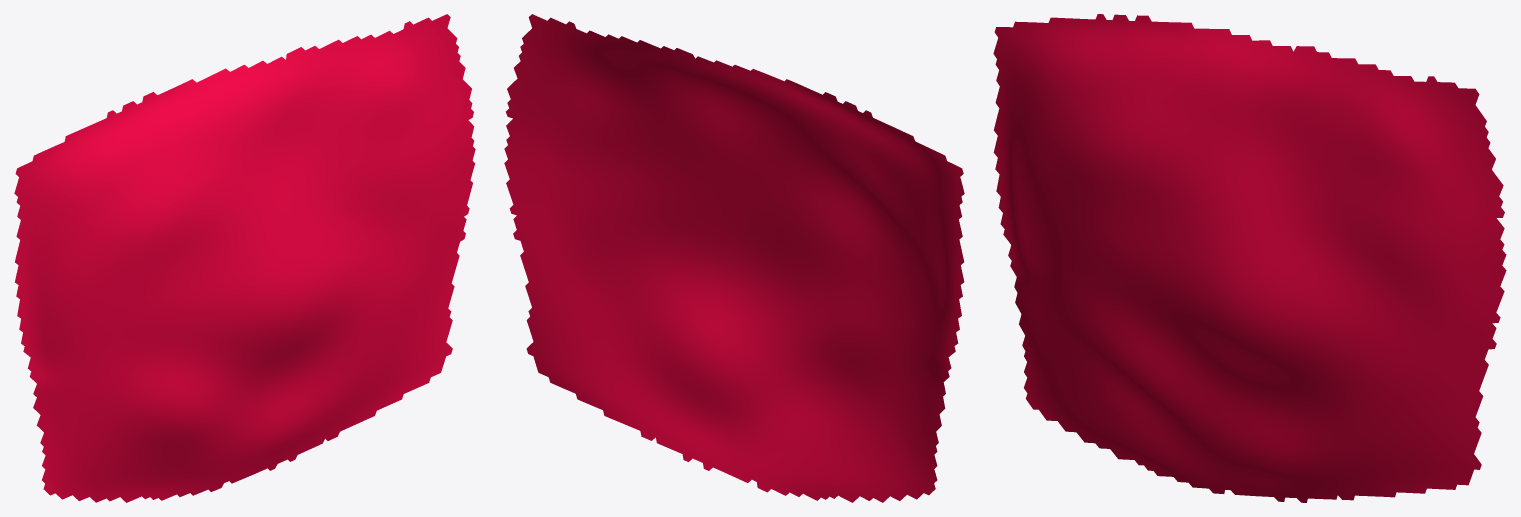
File: SM_GPUI_seederground_110.fbx
3 views of the same model, side by side, from view 1: azimuth 30°, elevation 25°; view 2: azimuth 150°, elevation 25°; view 3: azimuth 330°, elevation 25° (orthographic). The views are drawn at different scales.
Visible parts, largest first — view 1: SM_GPUI_seederground_110; view 2: SM_GPUI_seederground_110; view 3: SM_GPUI_seederground_110.
Part boxes in pixels (x1,y1,x2,y2): SM_GPUI_seederground_110: (14,14,475,502); SM_GPUI_seederground_110: (504,14,964,502); SM_GPUI_seederground_110: (993,14,1506,502).
Bounding box in the file's own units: 4569 × 4008 × 425.
1 material, 1 textured.
